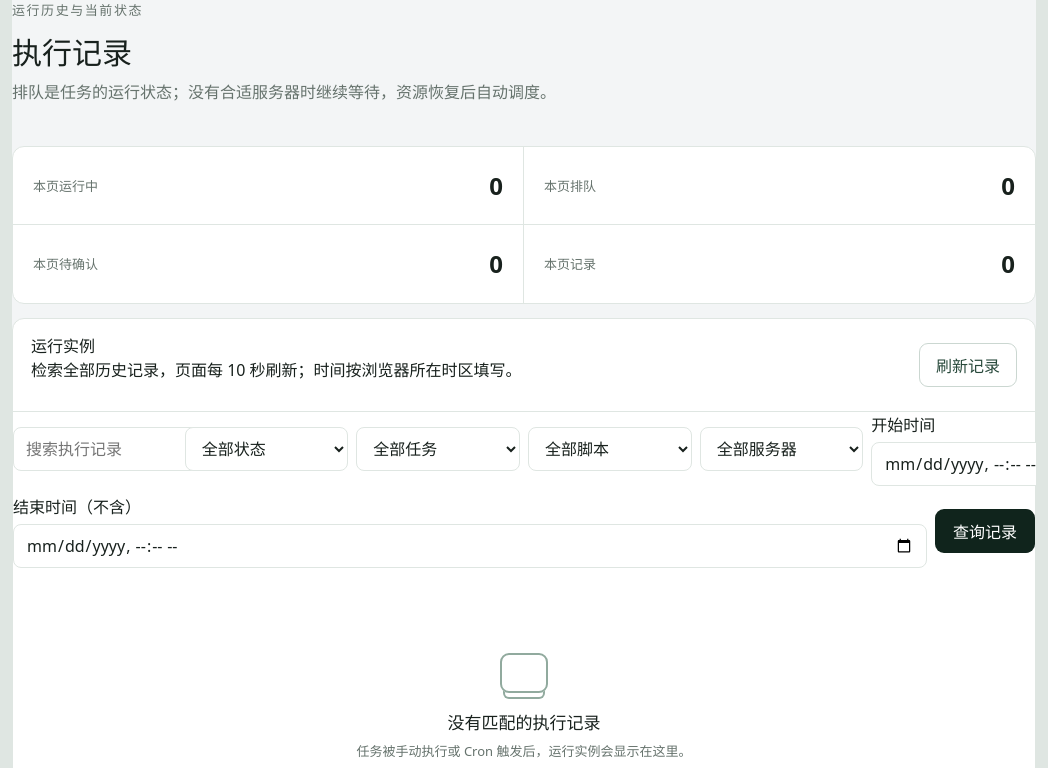
把时间和状态条件发到服务端，并可翻到历史下一页
The width and height of the screenshot is (1048, 768).
Expected: the button "查询记录" is enabled, [935,509,1035,553]
Type "历史订单" into the field named "筛选执行记录" at [123, 449], box [13,427,233,471]
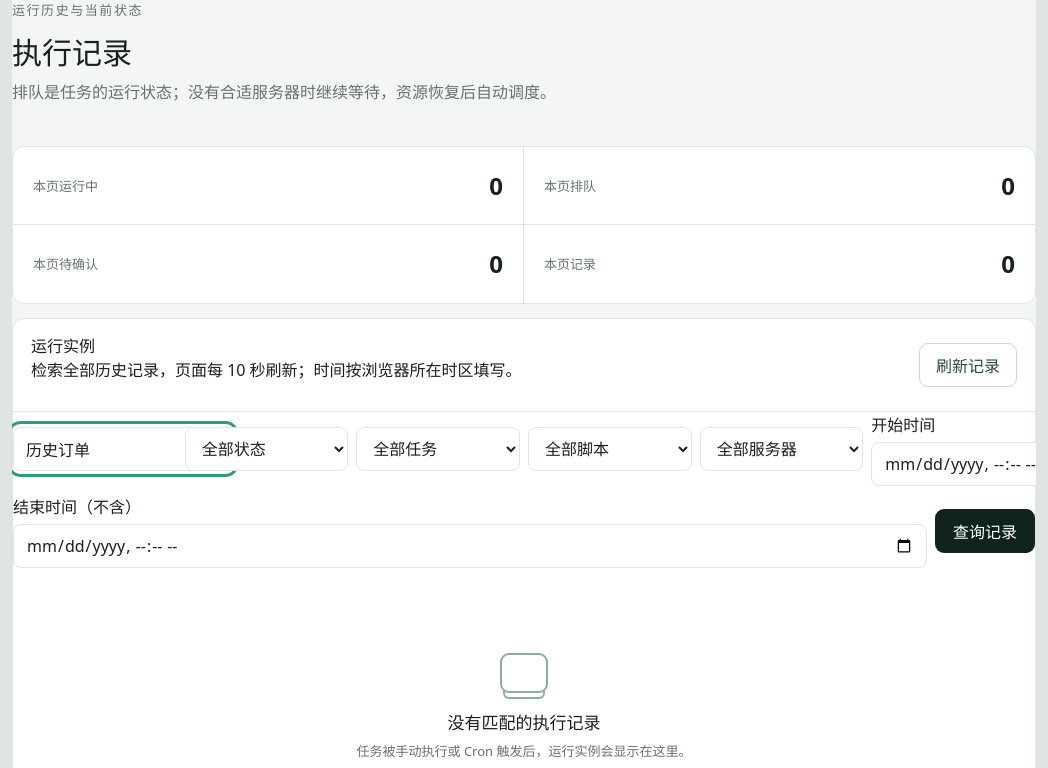
Select "执行失败" in the 1st dropdown named "筛选运行状态" at [267, 449], box [185,427,348,471]
(page scrolled)
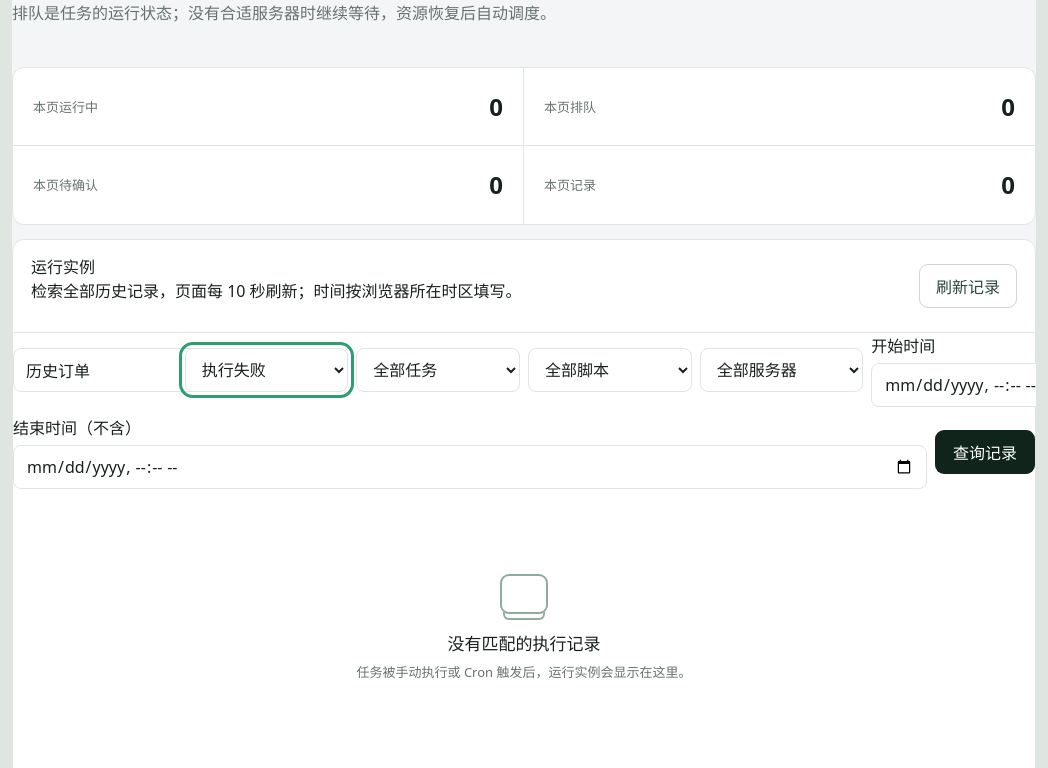
Type "2026-08-01T00:00" into the field labelled "开始时间" at [954, 385], box [871,363,1036,407]
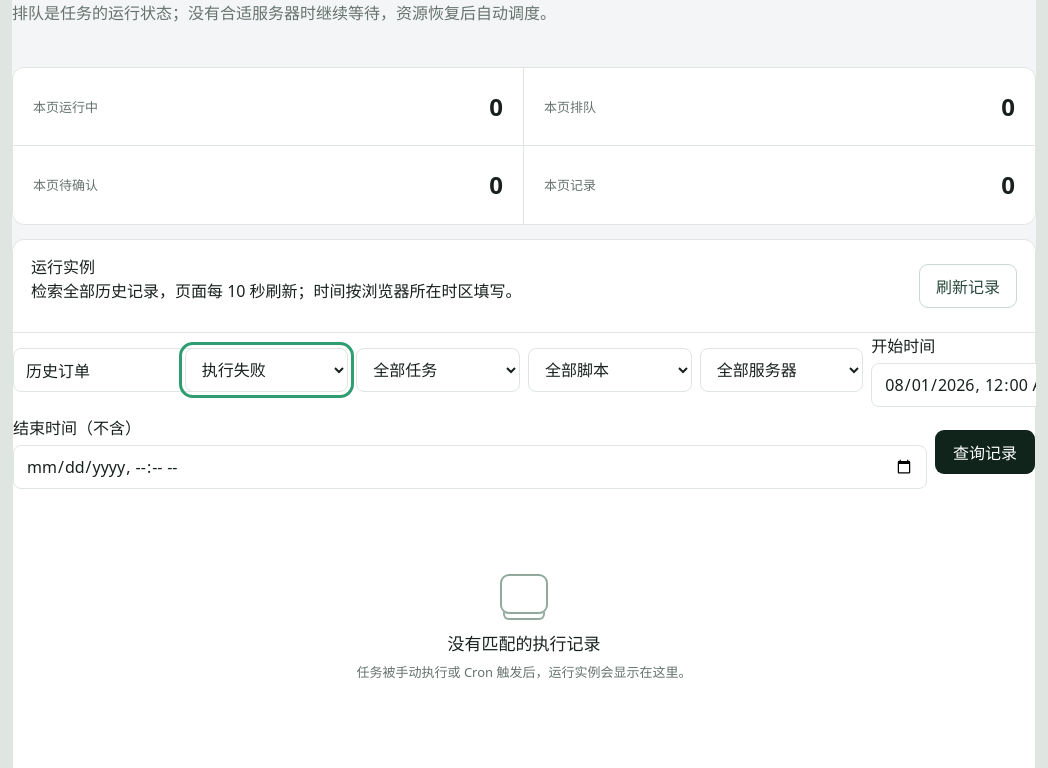
Type "2026-08-02T00:00" into the field labelled "结束时间（不含）" at [470, 467], box [13,445,927,489]
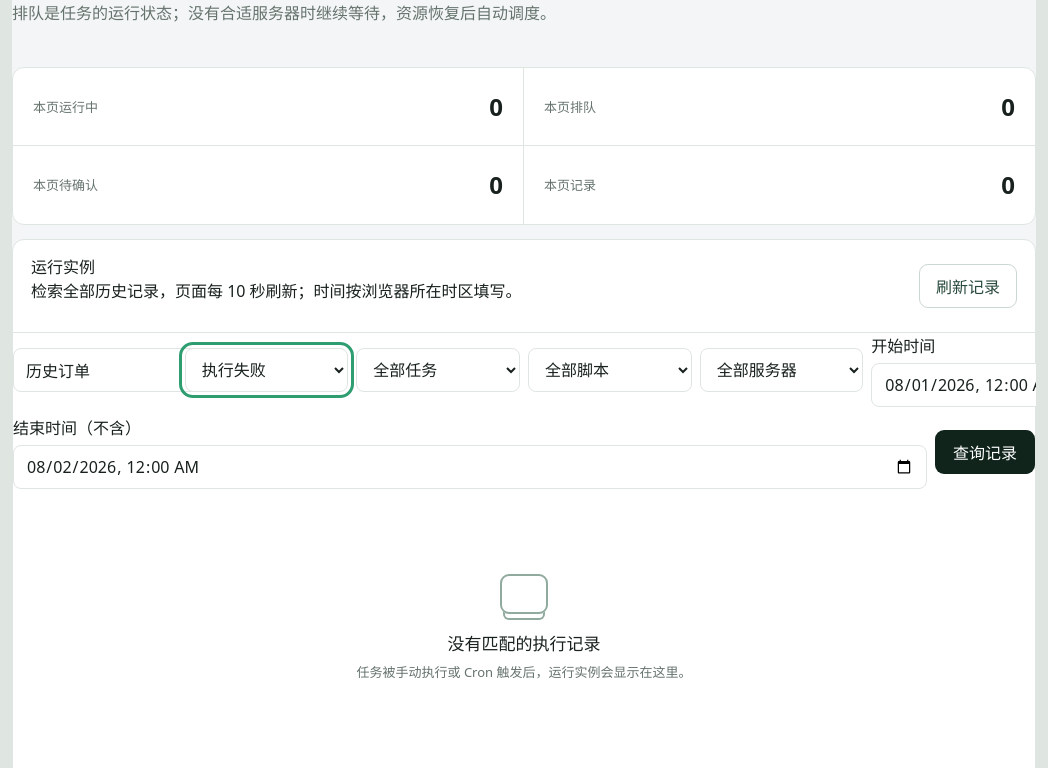
Click the button "查询记录" at [985, 452], box [935,430,1035,474]
(page scrolled)
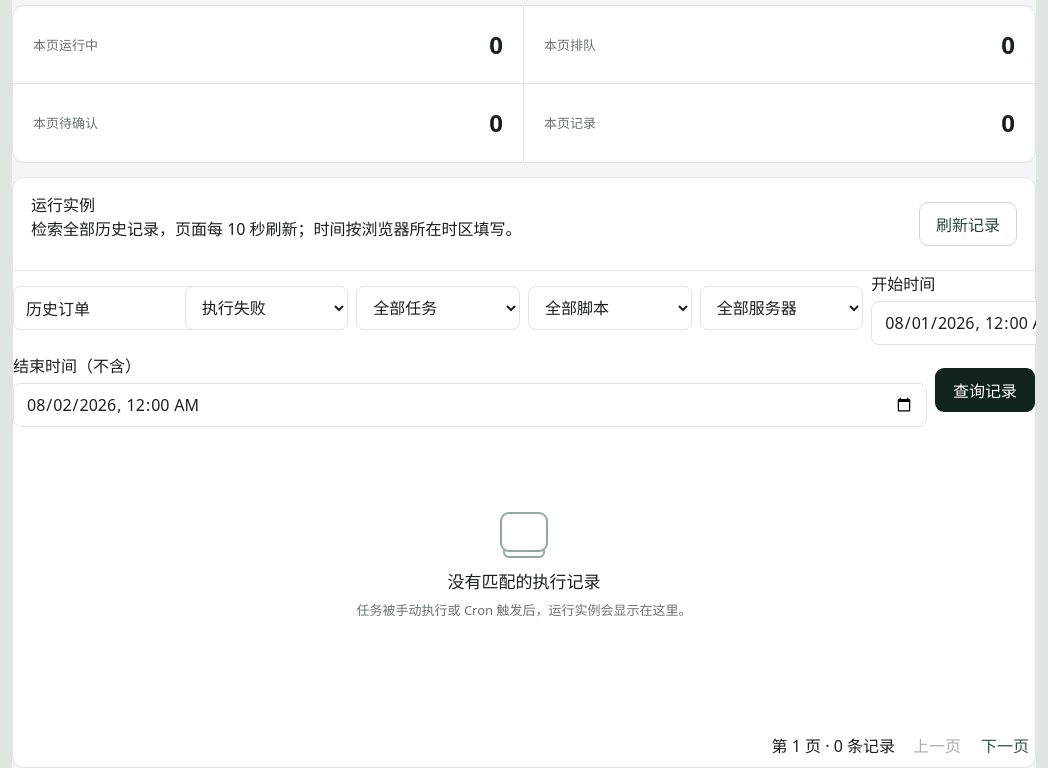
Click the button "下一页" at [1005, 745], box [975,723,1035,767]
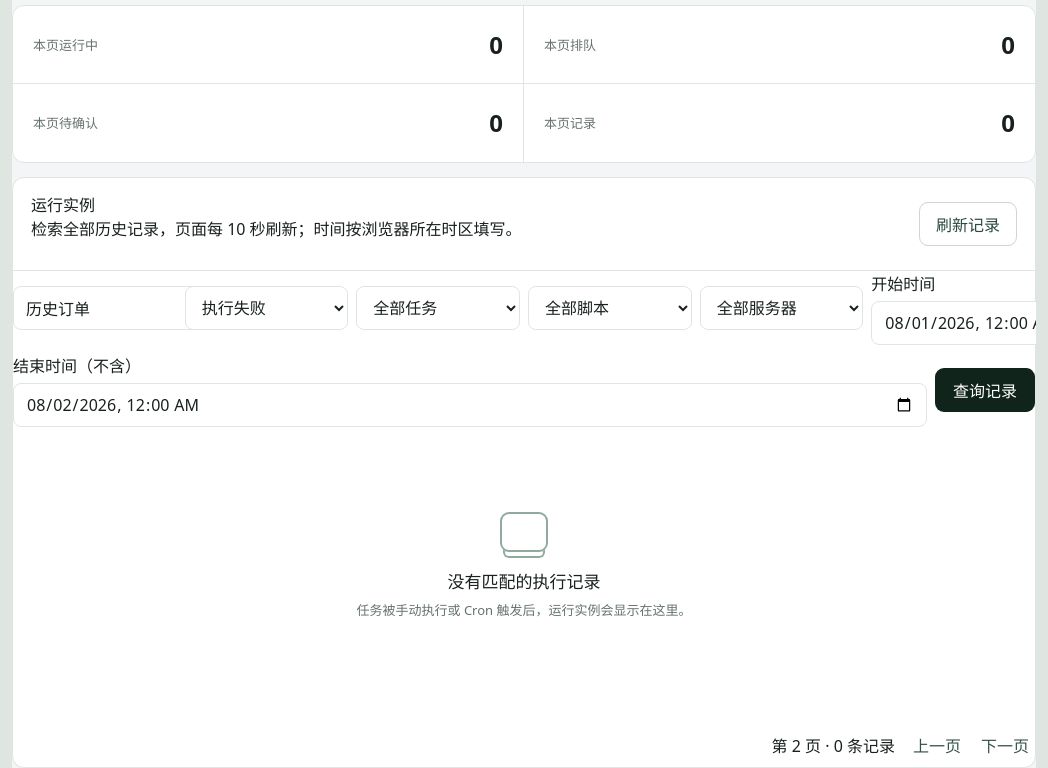
Now the button "上一页" is enabled, box [907,723,967,767]
